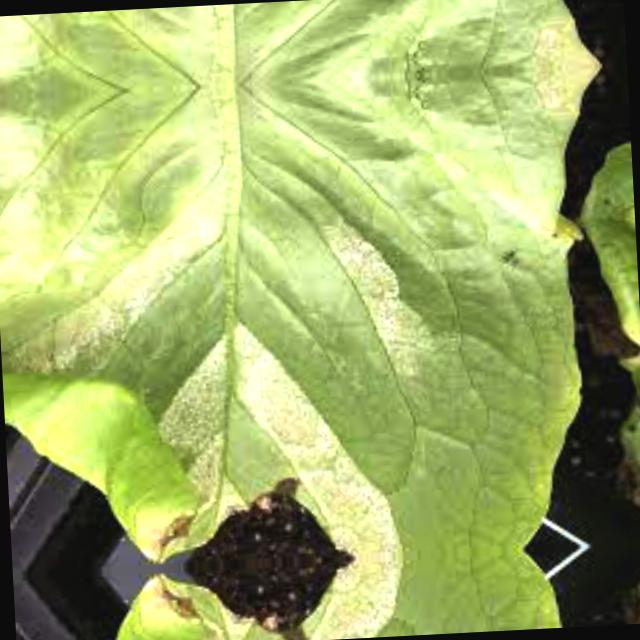Downy_mildew: (0, 80, 606, 576), (13, 544, 610, 640), (0, 0, 580, 83)
